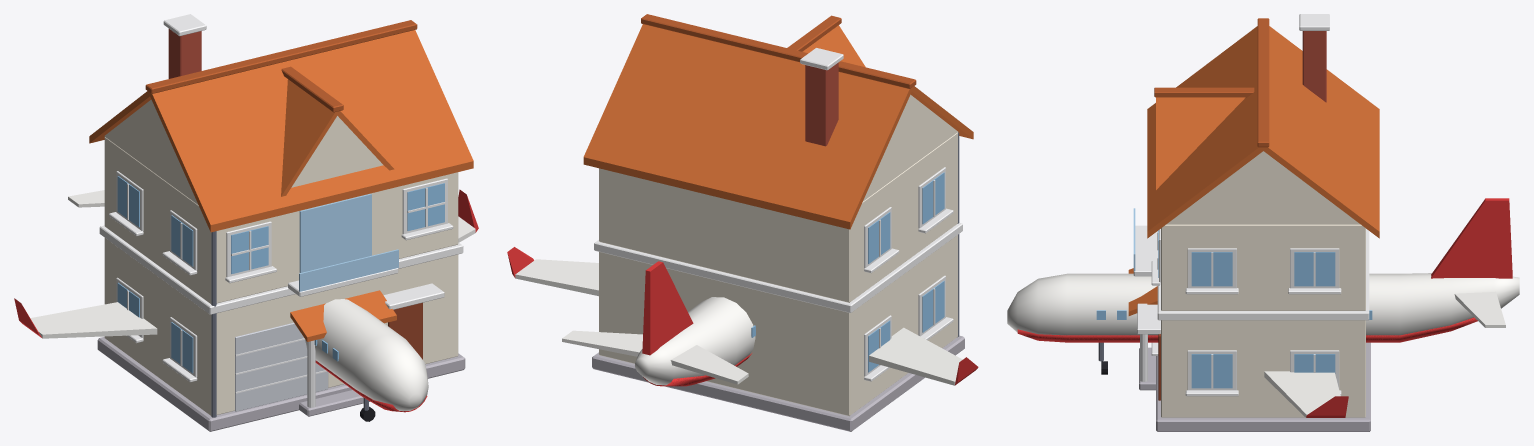
File: CityModels.fbx
The picture shows the model from 3 angles, left to right: view 1: azimuth 30°, elevation 25°; view 2: azimuth 150°, elevation 25°; view 3: azimuth 270°, elevation 25°; orthographic projection. The views are drawn at different scales.
Parts seen in each view (by area): view 1: M_BigHouse_Roof, M_BigHouse_Wall, M_Plane_WallWhite, M_BigHouse_Trim, M_BigHouse_Glass, M_BigHouse_Window, M_BigHouse_Garage, M_BigHouse_Stone, M_BigHouse_RoofTop, M_House_Roof, M_BigHouse_Chimney, M_Plane_Accent (+4 smaller); view 2: M_BigHouse_Wall, M_BigHouse_Roof, M_Plane_WallWhite, M_BigHouse_Trim, M_BigHouse_Stone, M_Plane_Accent, M_BigHouse_RoofTop, M_BigHouse_Window, M_BigHouse_Chimney; view 3: M_BigHouse_Wall, M_BigHouse_Roof, M_Plane_WallWhite, M_BigHouse_Trim, M_Plane_Accent, M_BigHouse_Window, M_BigHouse_Stone, M_BigHouse_RoofTop, M_BigHouse_Chimney.
Part boxes in pixels (x1=…): M_BigHouse_Roof: x1=89, y1=30, x2=473, y2=232; M_BigHouse_Wall: x1=104, y1=99, x2=458, y2=415; M_Plane_WallWhite: x1=30, y1=190, x2=475, y2=411; M_BigHouse_Trim: x1=99, y1=14, x2=463, y2=393; M_BigHouse_Glass: x1=299, y1=194, x2=398, y2=291; M_BigHouse_Window: x1=117, y1=176, x2=444, y2=373; M_BigHouse_Garage: x1=235, y1=322, x2=328, y2=411; M_BigHouse_Stone: x1=97, y1=336, x2=465, y2=431; M_BigHouse_RoofTop: x1=145, y1=20, x2=417, y2=112; M_House_Roof: x1=290, y1=290, x2=396, y2=341; M_BigHouse_Chimney: x1=168, y1=29, x2=201, y2=78; M_Plane_Accent: x1=14, y1=189, x2=478, y2=412; M_BigHouse_Wall: x1=599, y1=94, x2=957, y2=416; M_BigHouse_Roof: x1=583, y1=24, x2=973, y2=229; M_Plane_WallWhite: x1=515, y1=259, x2=962, y2=385; M_BigHouse_Trim: x1=594, y1=48, x2=962, y2=381; M_BigHouse_Stone: x1=592, y1=335, x2=964, y2=431; M_Plane_Accent: x1=507, y1=247, x2=978, y2=386; M_BigHouse_RoofTop: x1=641, y1=14, x2=916, y2=88; M_BigHouse_Window: x1=868, y1=172, x2=944, y2=372; M_BigHouse_Chimney: x1=805, y1=62, x2=838, y2=146; M_BigHouse_Wall: x1=1161, y1=151, x2=1365, y2=417; M_BigHouse_Roof: x1=1147, y1=26, x2=1379, y2=238; M_Plane_WallWhite: x1=1007, y1=273, x2=1519, y2=417; M_BigHouse_Trim: x1=1133, y1=14, x2=1369, y2=396; M_Plane_Accent: x1=1017, y1=198, x2=1512, y2=417; M_BigHouse_Window: x1=1158, y1=230, x2=1335, y2=388; M_BigHouse_Stone: x1=1156, y1=342, x2=1370, y2=431; M_BigHouse_RoofTop: x1=1154, y1=18, x2=1269, y2=147; M_BigHouse_Chimney: x1=1302, y1=31, x2=1326, y2=102.
Size of the model in its own units: 28.8 by 20.7 by 30.
